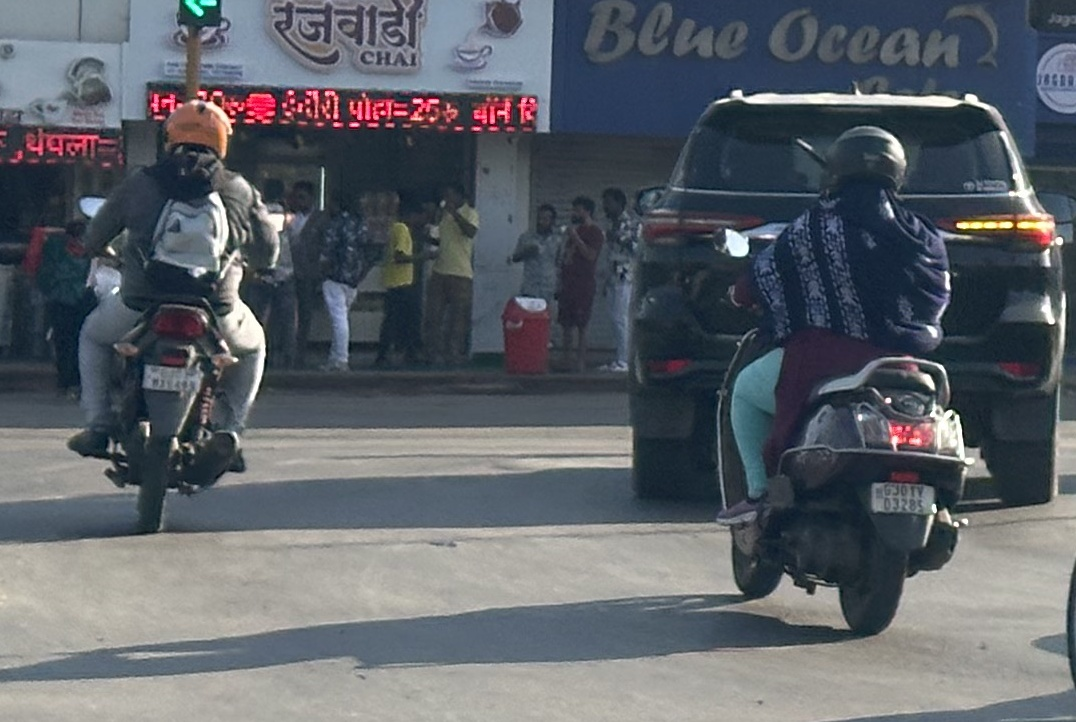BikeWithRider: (700, 114, 983, 645), (59, 90, 290, 545)
Helmet: (809, 117, 914, 214), (155, 91, 242, 169)
